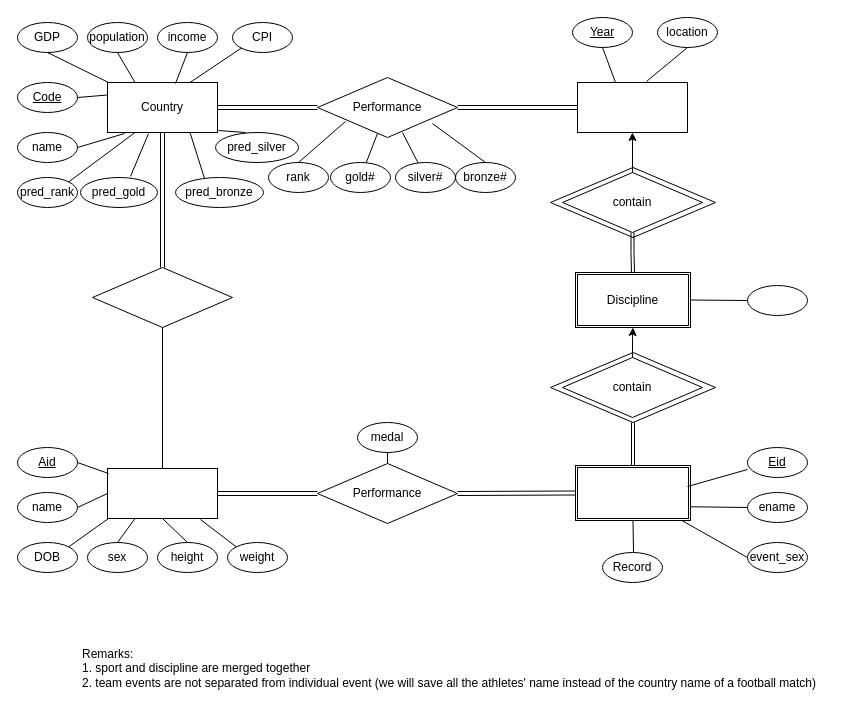
The diagram is 848 pixels wide and 723 high, and some of its shapes have lost their labels. The centre of each missing label's shape, as x and y in pixels:
Athlete: the point at 162,493
event: the point at 632,492
from: the point at 162,297
Olympics: the point at 632,107
sname: the point at 777,300
